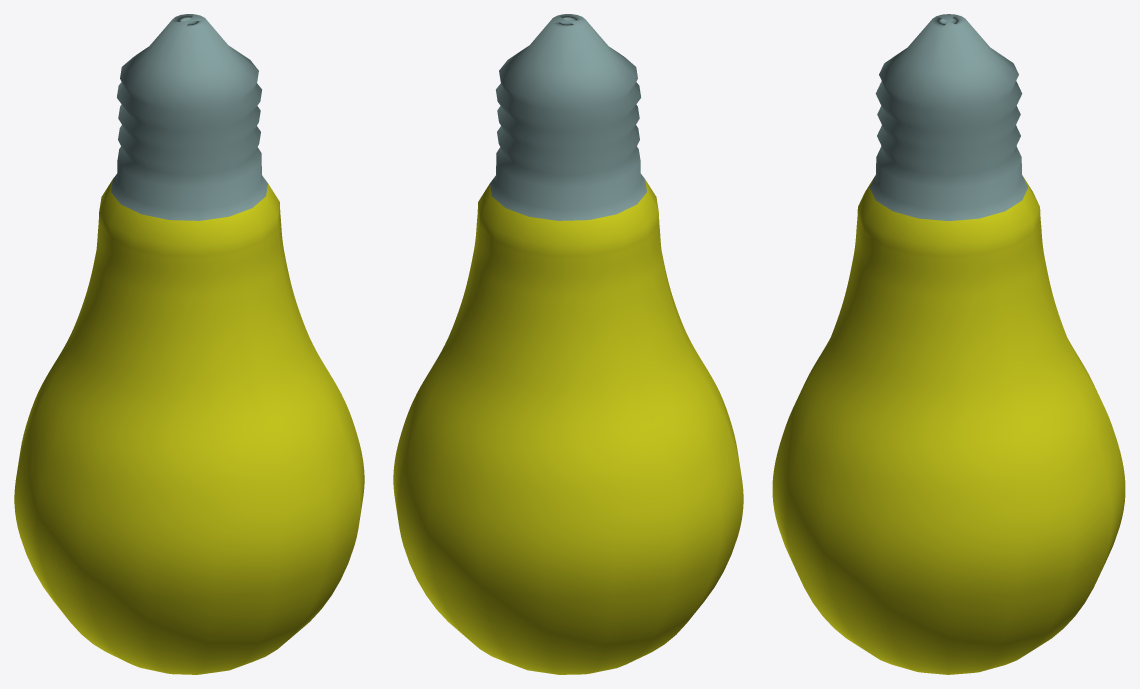
File: cena-luz-lampada.obj
3 views of the same model, side by side, from view 1: azimuth 30°, elevation 25°; view 2: azimuth 150°, elevation 25°; view 3: azimuth 270°, elevation 25° (orthographic).
Parts seen in each view (by area): view 1: lampada; view 2: lampada; view 3: lampada.
Boxes of the visible parts, x1=… form: lampada: x1=14, y1=14, x2=364, y2=674; lampada: x1=393, y1=14, x2=743, y2=674; lampada: x1=772, y1=14, x2=1125, y2=674.
Bounding box in the file's own units: 1.02 × 2.02 × 1.02.
